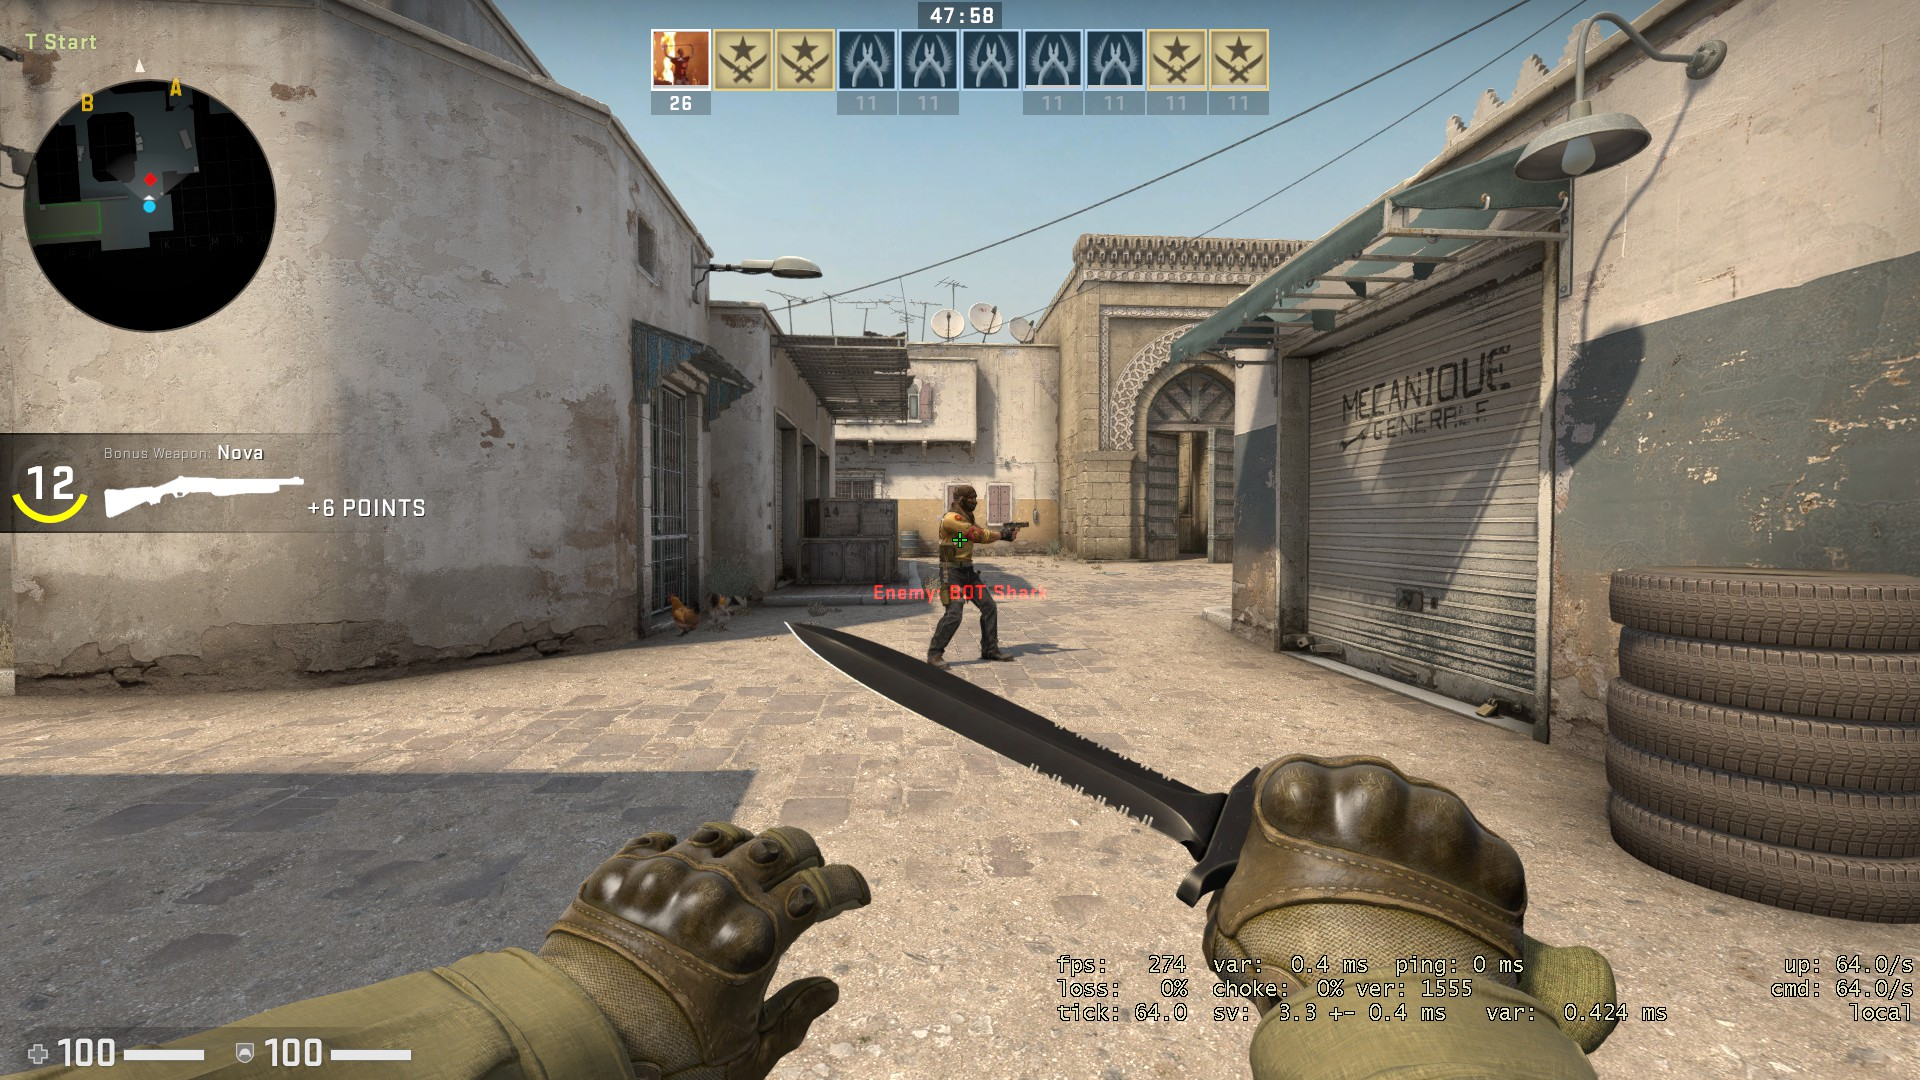player: (923, 476, 1039, 679)
